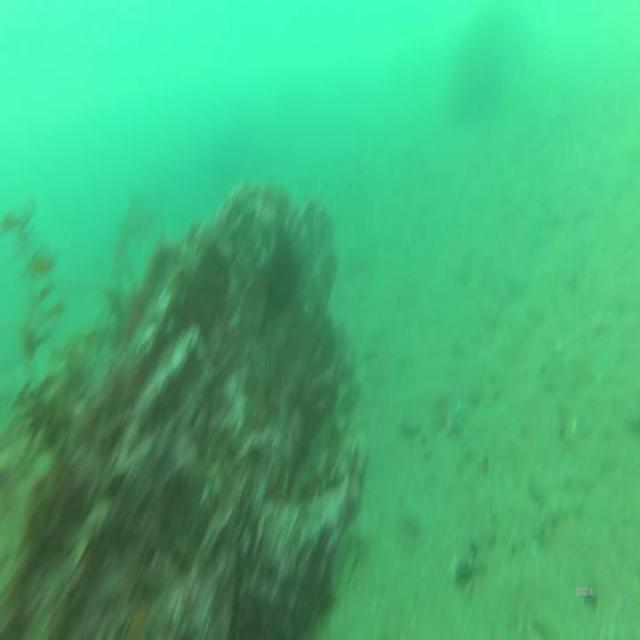echinus: (264, 230, 303, 314), (195, 242, 231, 328)
waterweeds: (1, 201, 96, 469)
